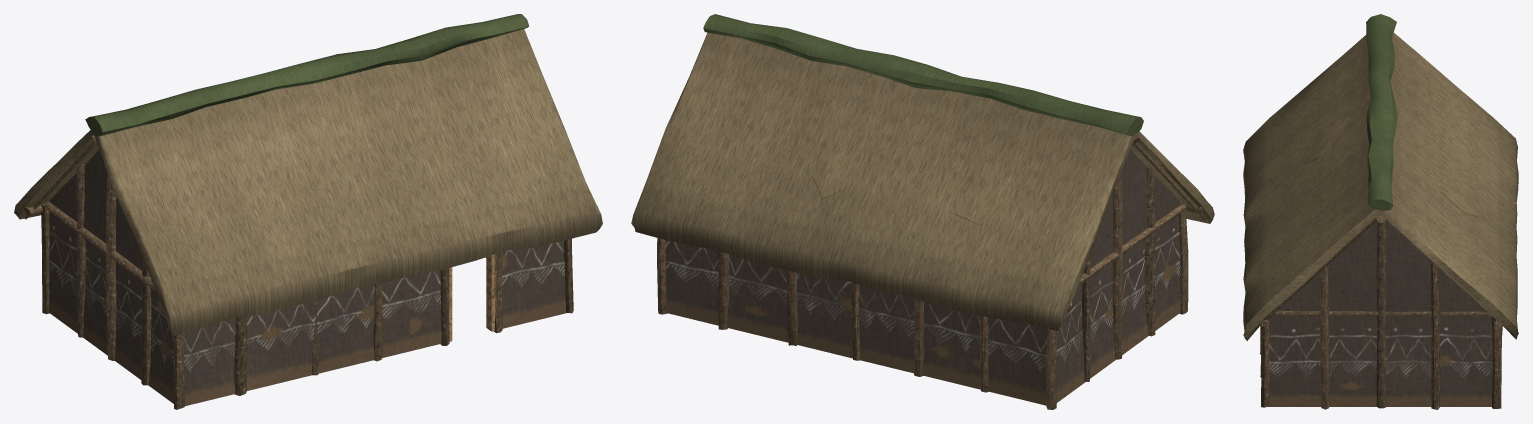
Rendered from house_005_pattern.glb.
The picture shows the model from 3 angles, left to right: view 1: azimuth 30°, elevation 25°; view 2: azimuth 150°, elevation 25°; view 3: azimuth 270°, elevation 25°; orthographic projection. The views are drawn at different scales.
Parts seen in each view (by area): view 1: Roof, Wall, Frame, DoorRecess; view 2: Roof, Wall, Frame; view 3: Roof, Wall, Frame.
Part boxes in pixels (box(x1,y1,x2,y2)): Roof: box(14, 14, 602, 335); Wall: box(49, 149, 566, 406); Frame: box(24, 135, 573, 409); DoorRecess: box(448, 254, 494, 341); Roof: box(631, 14, 1214, 331); Wall: box(665, 149, 1180, 405); Frame: box(657, 136, 1205, 409); Roof: box(1243, 14, 1518, 340); Wall: box(1268, 220, 1492, 406); Frame: box(1260, 214, 1502, 409).
Bounding box in the file's own units: 9.39 × 5.18 × 5.88.
Materials: 3 (3 with a texture image).
